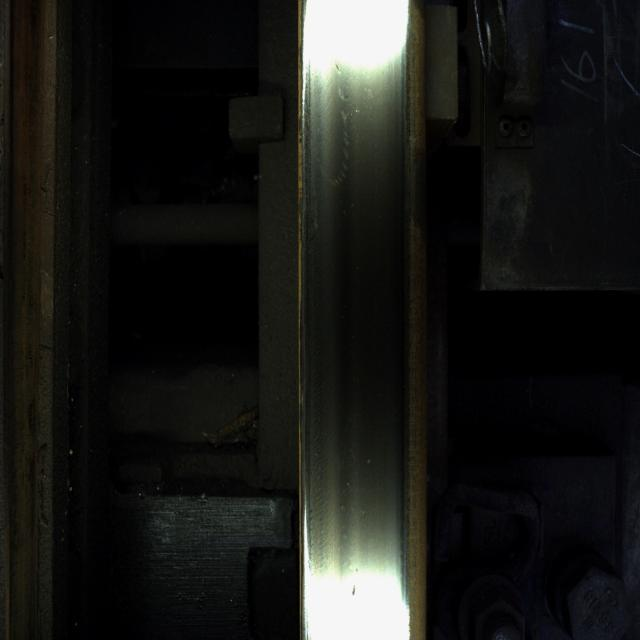normal: (306, 19, 405, 590)
